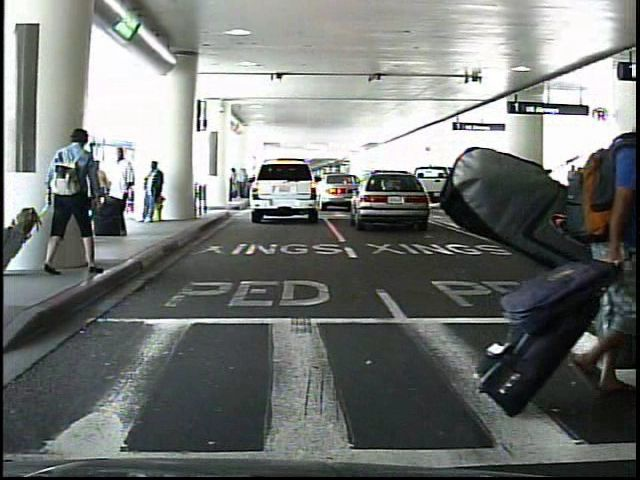person: (47, 127, 95, 277), (104, 146, 131, 239), (141, 159, 167, 226), (560, 164, 576, 213), (574, 168, 588, 212)
